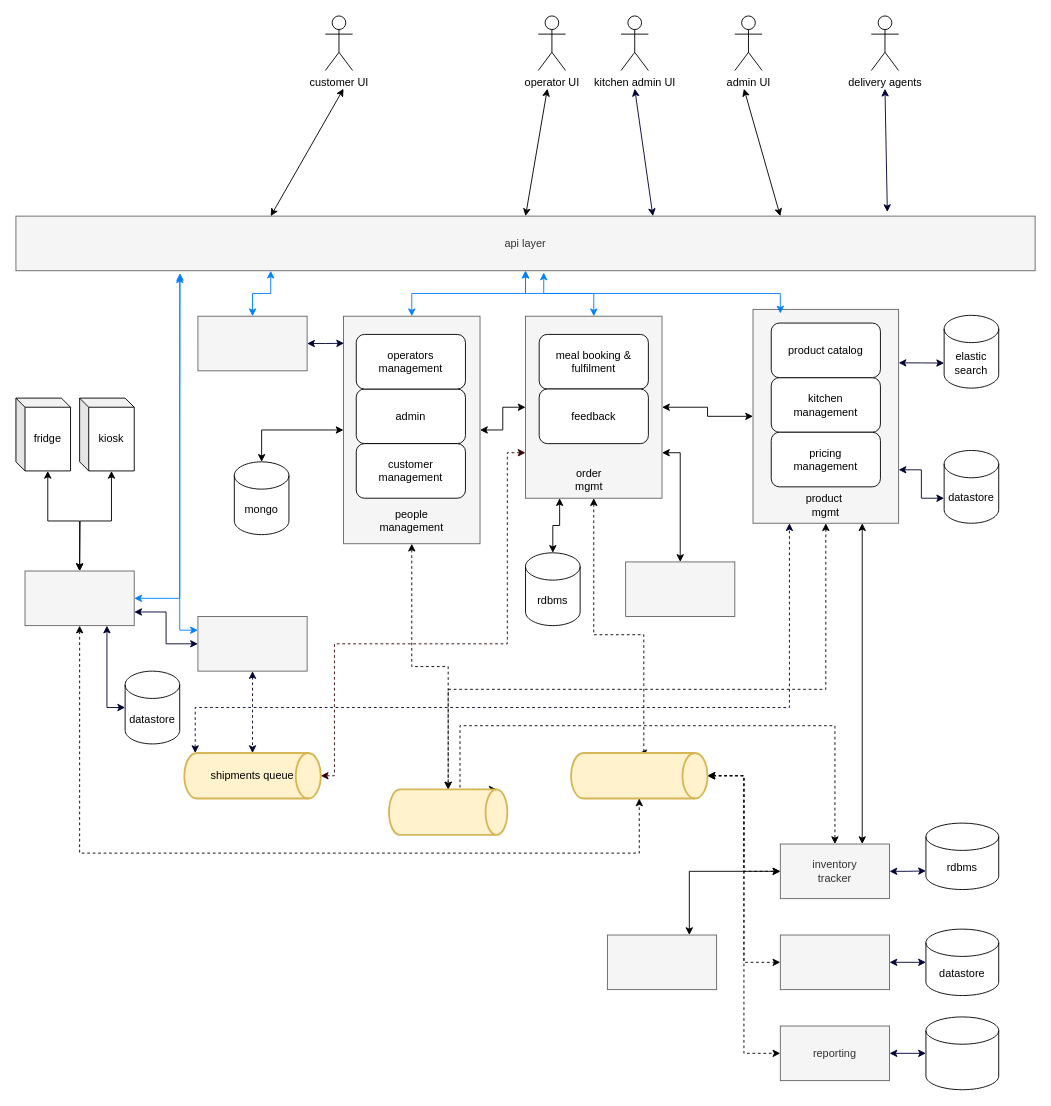
Some shapes in this 1051 by 1106 pixel diagram are drawn without their labels. Each missing label, with the centre of its shape:
"accounting" belongs at [834,962].
"authentication and authorization" belongs at [252,343].
"data warehouse" belongs at [962,1053].
"location service" belongs at [662,962].
"notifications queue" belongs at [448,811].
"payments" belongs at [680,589].
"sale front" belongs at [79,598].
"shipments" belongs at [252,643].
"transactions queue" belongs at [639,775].
